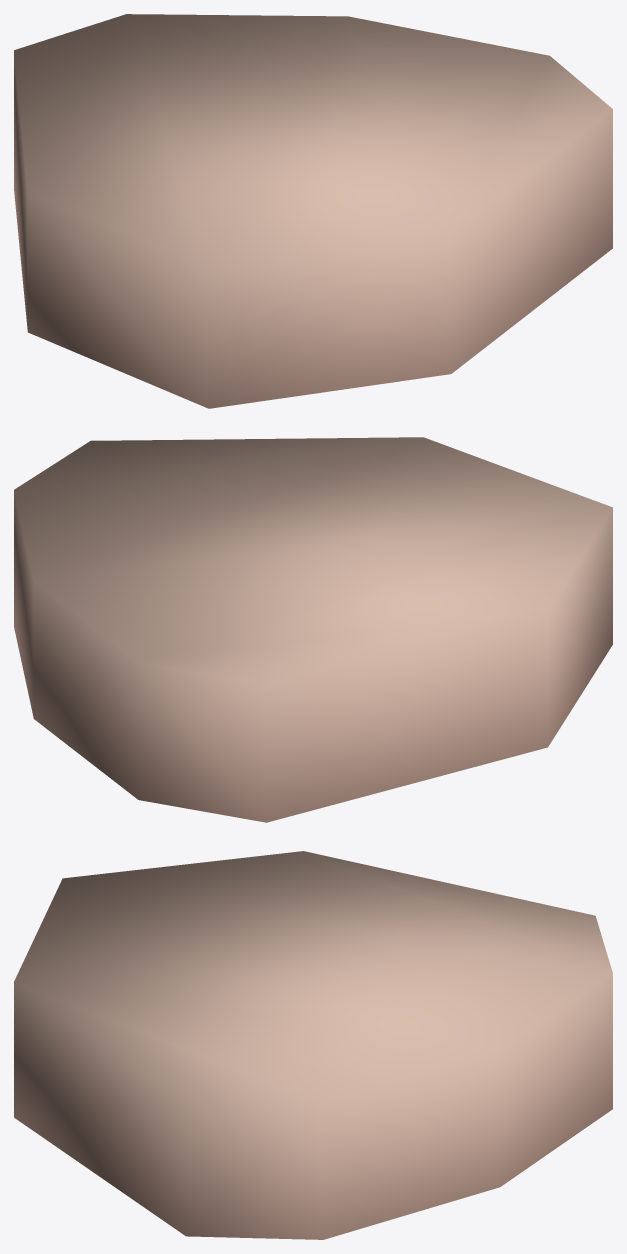
Rendered from (%no-merge) 39.glb.
3 renders of one model, top to bottom at view 1: azimuth 30°, elevation 25°; view 2: azimuth 150°, elevation 25°; view 3: azimuth 270°, elevation 25°, orthographic. The views are drawn at different scales.
Parts seen in each view (by area): view 1: (%no-merge) 39; view 2: (%no-merge) 39; view 3: (%no-merge) 39.
Boxes of the visible parts, x1=… form: (%no-merge) 39: x1=14, y1=14, x2=612, y2=408; (%no-merge) 39: x1=14, y1=437, x2=612, y2=822; (%no-merge) 39: x1=14, y1=851, x2=612, y2=1239.
Bounding box in the file's own units: 0.0929 × 0.0232 × 0.0929.
